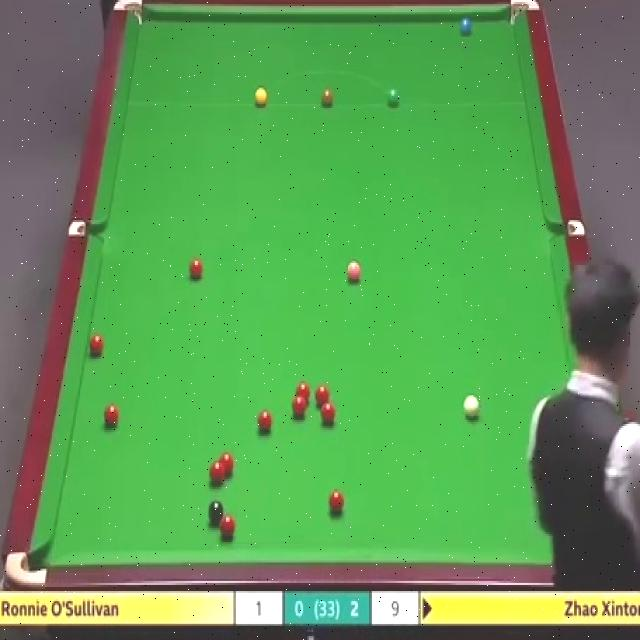black-ball: (210, 500, 224, 525)
blue-ball: (458, 15, 472, 36)
brown-ball: (320, 87, 334, 107)
green-ball: (385, 88, 399, 107)
pink-ball: (346, 263, 362, 285)
red-ball: (101, 401, 119, 428), (209, 460, 226, 485), (320, 399, 335, 425), (219, 514, 235, 538), (88, 333, 103, 358), (257, 408, 272, 432), (219, 452, 234, 476), (293, 397, 308, 419), (315, 384, 330, 406), (331, 491, 344, 516), (295, 382, 311, 402), (189, 261, 203, 279)
white-ball: (464, 393, 482, 421)
yellow-ball: (254, 87, 268, 107)
